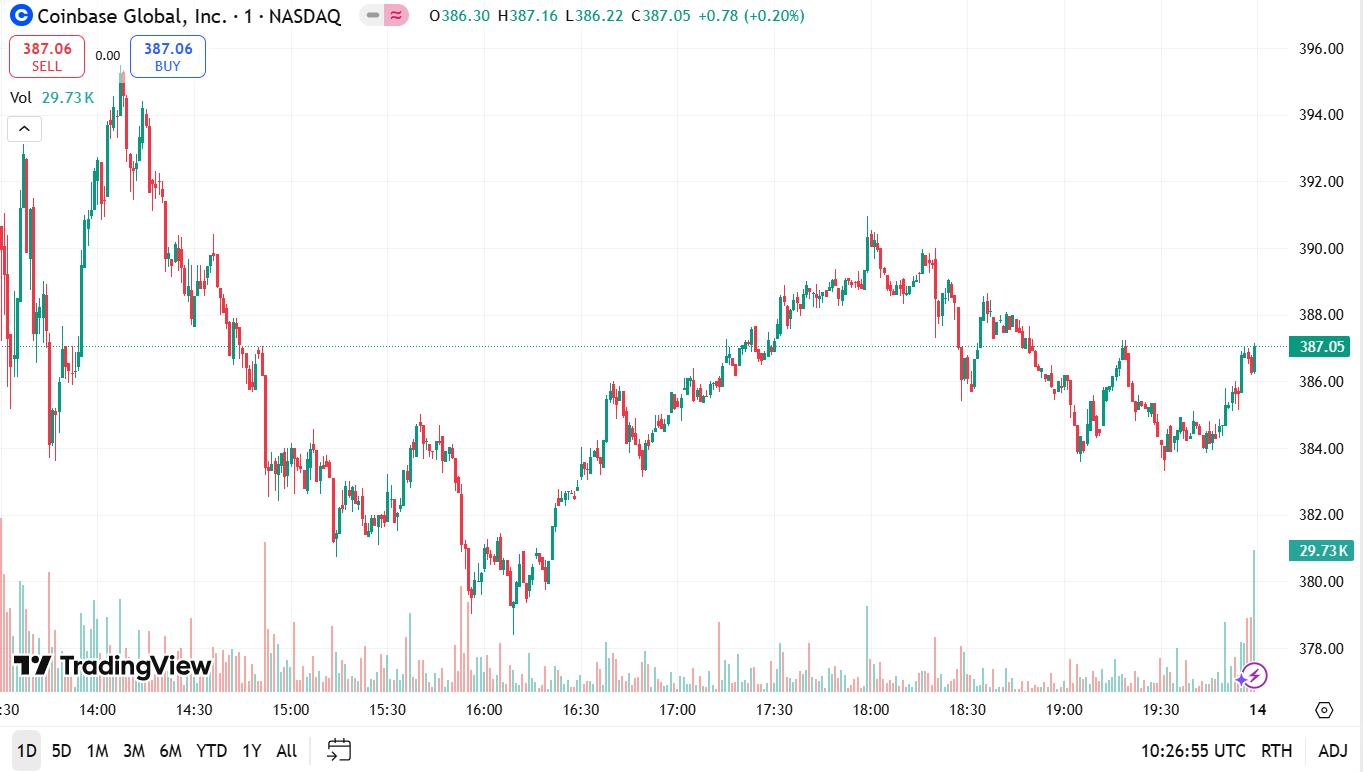Downtrend: (120, 89, 552, 634), (901, 220, 1077, 494), (16, 155, 72, 456)
Sideways: (1089, 325, 1253, 467)
Uptrend: (560, 218, 889, 525), (78, 75, 116, 477)
